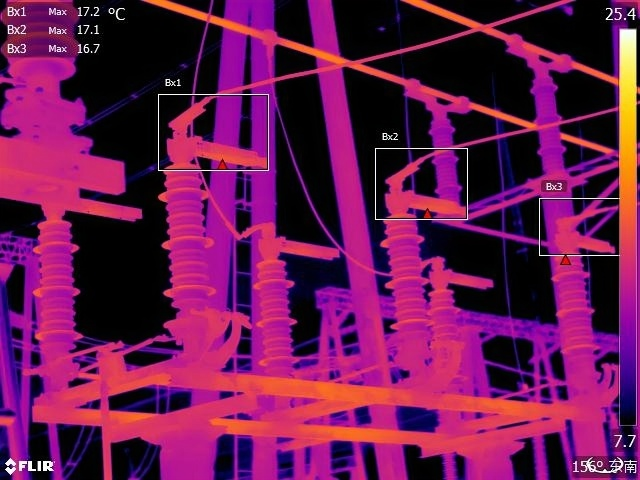clamp: (255, 18, 283, 61)
post insulator: (160, 156, 217, 313), (29, 214, 84, 348), (252, 255, 303, 381), (549, 248, 600, 355), (384, 211, 429, 326), (529, 61, 566, 168), (425, 112, 465, 209), (427, 285, 465, 365)
switch: (163, 108, 271, 174), (381, 169, 478, 223), (250, 218, 350, 266), (548, 211, 618, 255)
